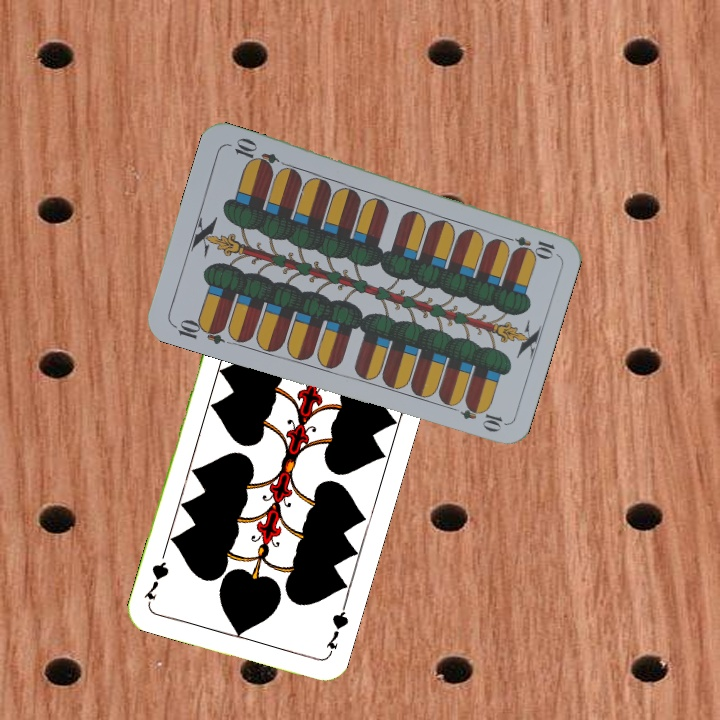E10: (168, 315, 228, 347), (499, 231, 557, 258)
G7: (321, 601, 351, 659)
